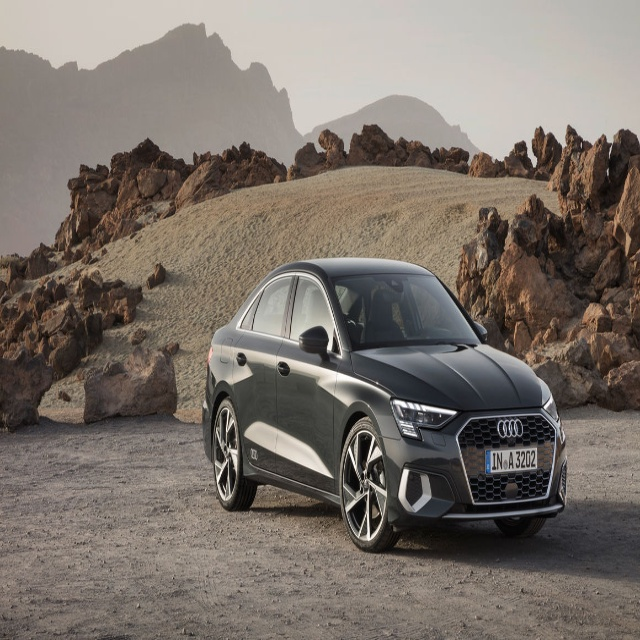Car: (202, 256, 567, 554)
